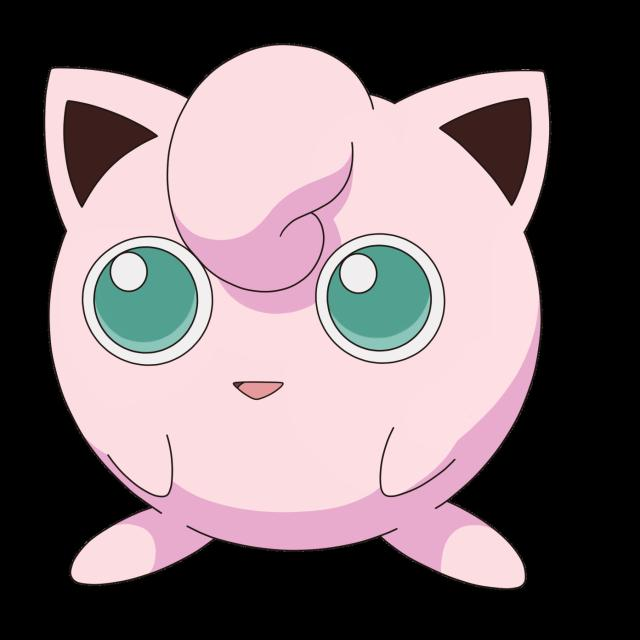Jigglypuff: (44, 63, 552, 595)
